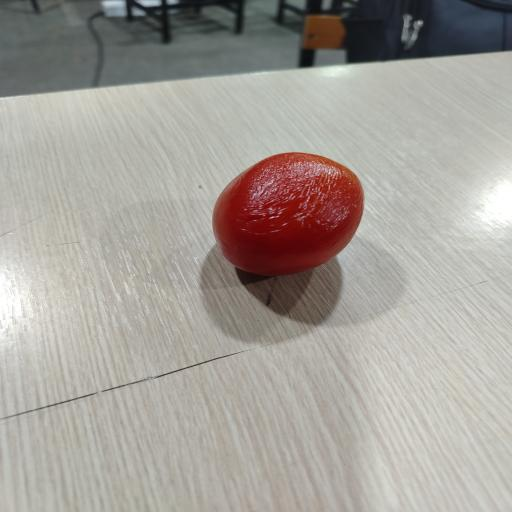spoiled: (213, 153, 364, 276)
